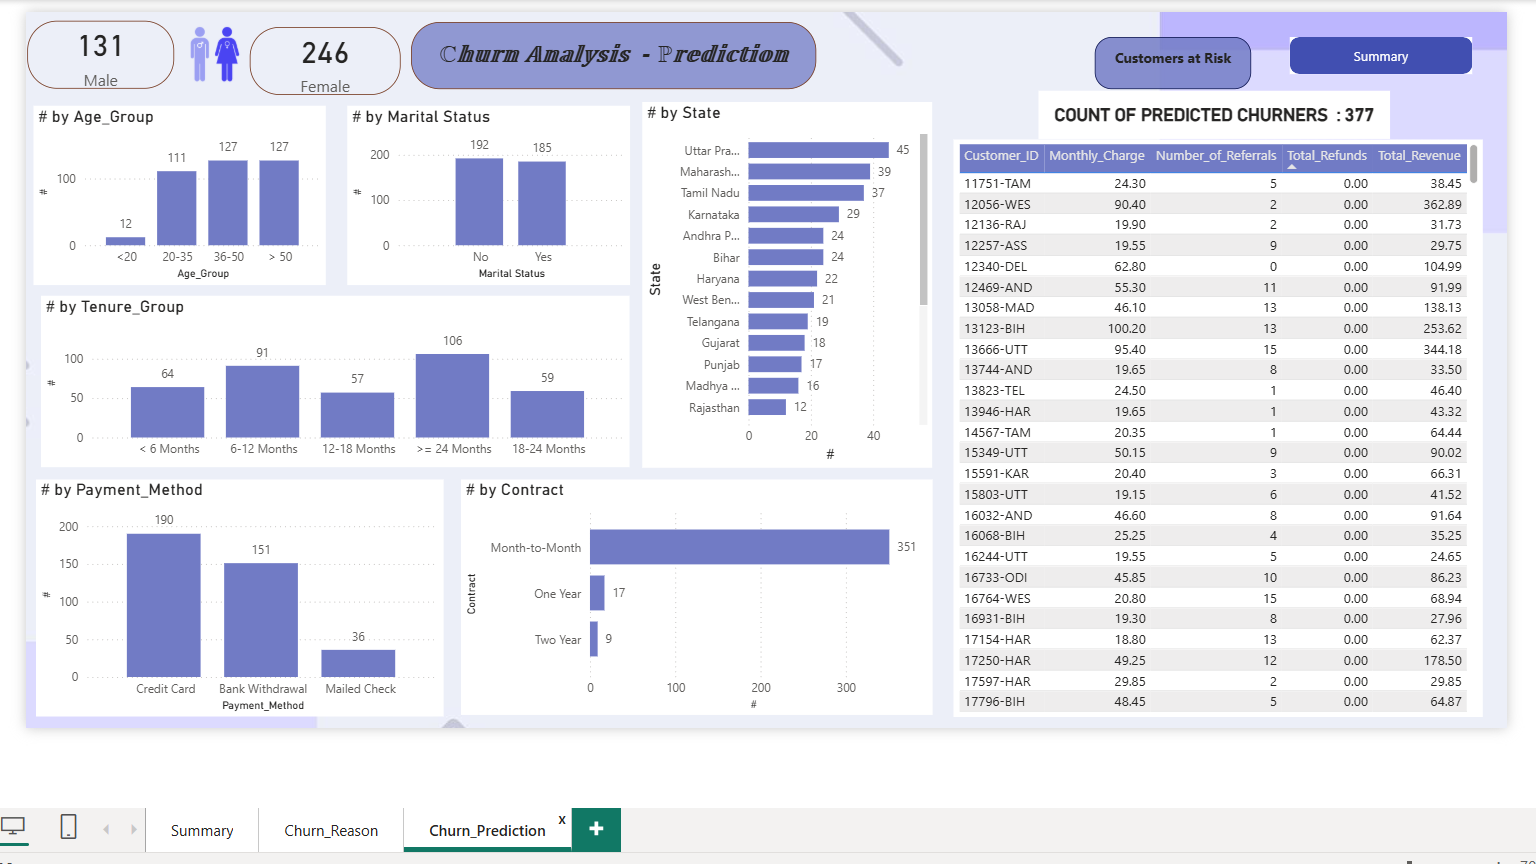

This screenshot's page, from the dashboard's own definition file:
{"tool":"powerbi","page":{"name":"Churn_Prediction","canvas":[1500,725],"ordinal":2},"visuals":[{"type":"tableEx","fields":{"Values":["Predictions.Customer_ID","Predictions.Monthly_Charge","Predictions.Number_of_Referrals","Predictions.Total_Refunds","Predictions.Total_Revenue"]},"box":[938.8,128.8,536.2,585],"z":0},{"type":"card","fields":{"Values":["Table_Measure.Title Predicted Churners"]},"box":[1025,80,356.2,48.8],"z":1000},{"type":"card","fields":{"Values":["Table_Measure.Count Predicted Churner"]},"box":[227,15,153,69],"z":2000},{"type":"card","fields":{"Values":["Table_Measure.Count Predicted Churner"]},"box":[1,9,149,69],"z":3000},{"type":"clusteredColumnChart","fields":{"Category":["Mapping_AgeGroup.Age_Group"],"Y":["CountNonNull(Predictions.Customer_ID)"]},"box":[7.5,95,296.2,181.2],"z":4000},{"type":"clusteredColumnChart","fields":{"Y":["CountNonNull(Predictions.Customer_ID)"],"Category":["Predictions.Married"]},"box":[325,95,286.2,181.2],"z":5000},{"type":"clusteredColumnChart","fields":{"Y":["CountNonNull(Predictions.Customer_ID)"],"Category":["Mapping_TenureGroup.Tenure_Group"]},"box":[15,287.5,596.2,173.8],"z":6000},{"type":"clusteredBarChart","fields":{"Category":["Predictions.Contract"],"Y":["CountNonNull(Predictions.Customer_ID)"]},"box":[440,473.8,477.5,238.8],"z":7000},{"type":"clusteredColumnChart","fields":{"Y":["CountNonNull(Predictions.Customer_ID)"],"Category":["Predictions.Payment_Method"]},"box":[10,473.8,412.5,240],"z":8000},{"type":"clusteredBarChart","fields":{"Y":["CountNonNull(Predictions.Customer_ID)"],"Category":["Predictions.State"]},"box":[623.8,91.2,293.8,370],"z":9000},{"type":"shape","box":[1280,25,185,37.5],"z":10000},{"type":"textbox","box":[1082.5,25,158.8,52.5],"z":11000},{"type":"image","box":[143,1,96,81],"z":12000},{"type":"textbox","box":[390,10,410,68],"z":13000}]}

Visuals, with their boxes on the page's 1500x725 design canvas (x1, y1, x2, y2). These are canvas units, not pixel positions in the 1536x864 screenshot, which may show the page scaled, cropped or inside an application window:
tableEx - Predictions.Customer_ID x Predictions.Monthly_Charge: left=939, top=129, right=1475, bottom=714
card - Table_Measure.Title Predicted Churners: left=1025, top=80, right=1381, bottom=129
card - Table_Measure.Count Predicted Churner: left=227, top=15, right=380, bottom=84
card - Table_Measure.Count Predicted Churner: left=1, top=9, right=150, bottom=78
clusteredColumnChart - Mapping_AgeGroup.Age_Group x CountNonNull(Predictions.Customer_ID): left=8, top=95, right=304, bottom=276
clusteredColumnChart - CountNonNull(Predictions.Customer_ID) x Predictions.Married: left=325, top=95, right=611, bottom=276
clusteredColumnChart - CountNonNull(Predictions.Customer_ID) x Mapping_TenureGroup.Tenure_Group: left=15, top=288, right=611, bottom=461
clusteredBarChart - Predictions.Contract x CountNonNull(Predictions.Customer_ID): left=440, top=474, right=918, bottom=713
clusteredColumnChart - CountNonNull(Predictions.Customer_ID) x Predictions.Payment_Method: left=10, top=474, right=422, bottom=714
clusteredBarChart - CountNonNull(Predictions.Customer_ID) x Predictions.State: left=624, top=91, right=918, bottom=461
shape: left=1280, top=25, right=1465, bottom=62
textbox: left=1082, top=25, right=1241, bottom=78
image: left=143, top=1, right=239, bottom=82
textbox: left=390, top=10, right=800, bottom=78
